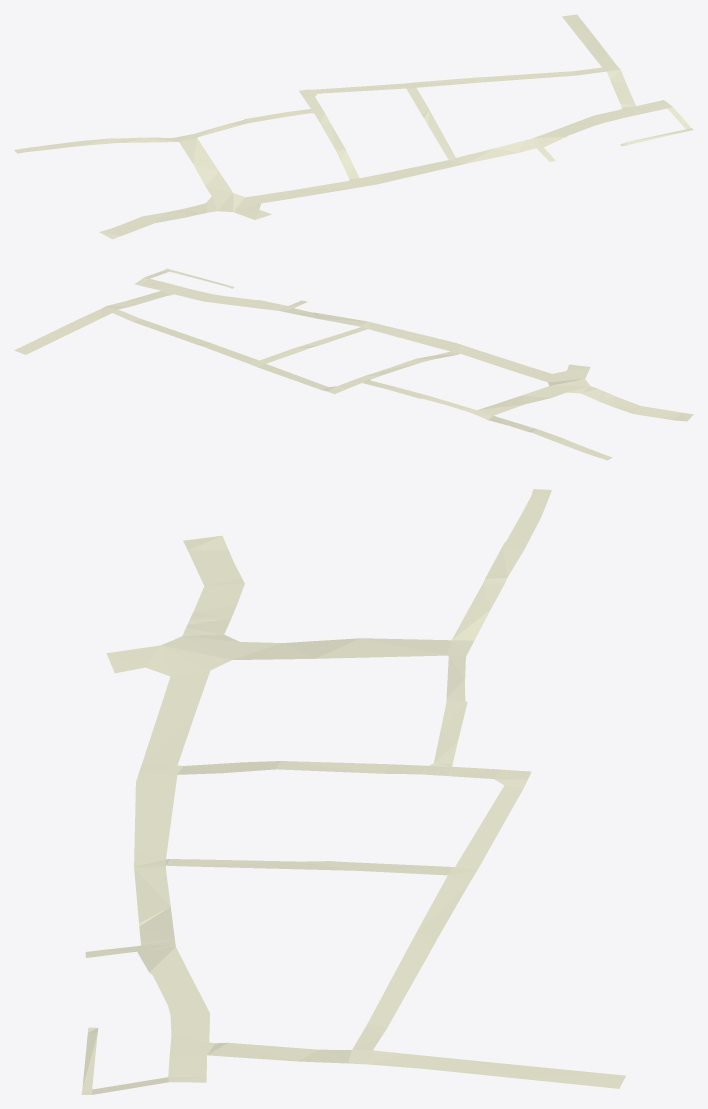
The model's file is data78.glb.
3 views of the same model, one above another, from view 1: azimuth 30°, elevation 25°; view 2: azimuth 150°, elevation 25°; view 3: azimuth 270°, elevation 25° (orthographic). The views are drawn at different scales.
Size of the model in its own units: 243 by 12.3 by 99.06.
